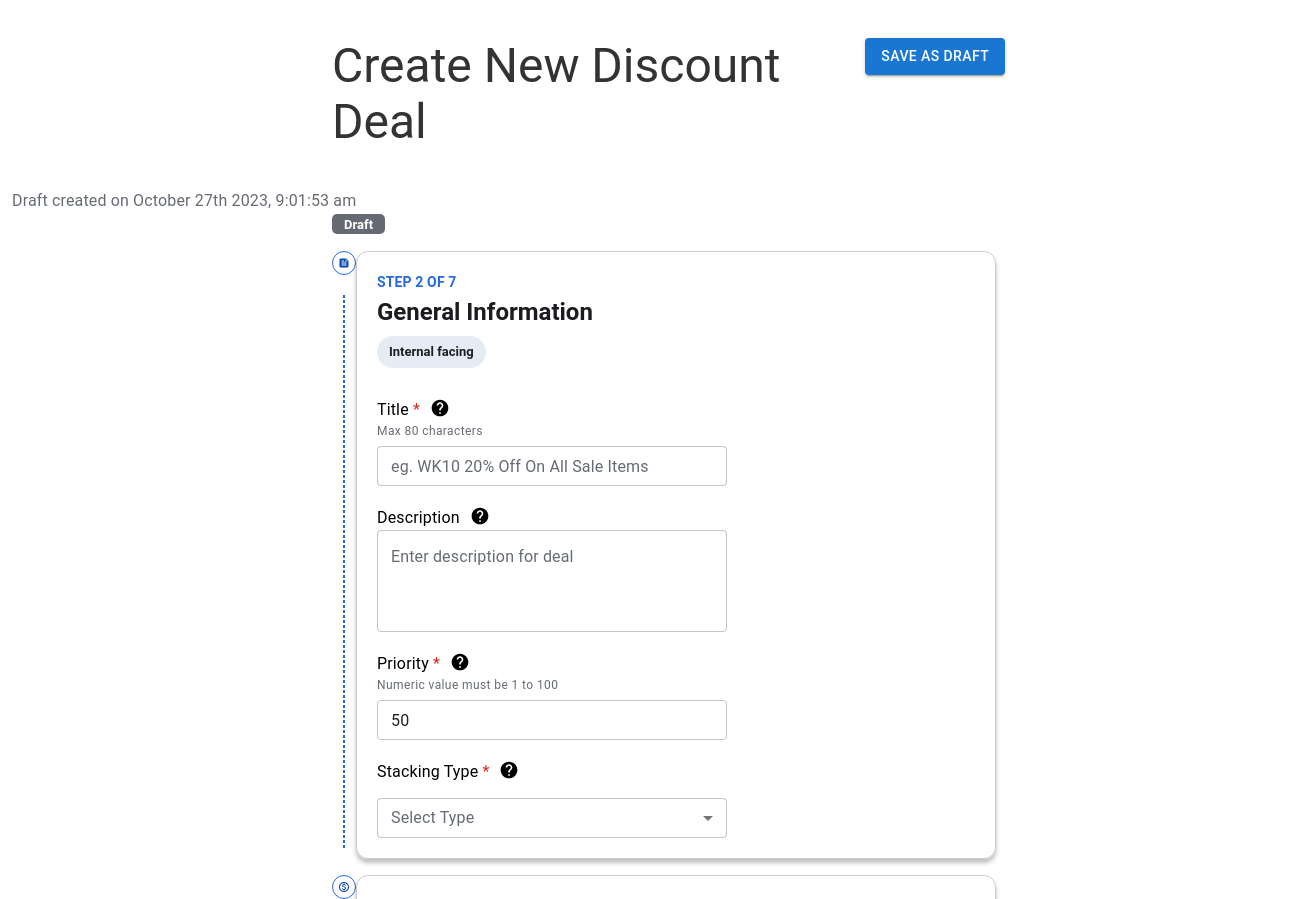
Scenario: Create deal form tests › Title field tests › Proper error messages are displayed for title field with more than 80 characters
This screenshot has width=1292, height=899.
Type "This is an example of a sample title name for more than 80 characters error unit test" into the field with test id "title".
click(541, 466); type("This is an example of a sample title name for more than 80 characters error unit test")  # box [377,438,705,494]
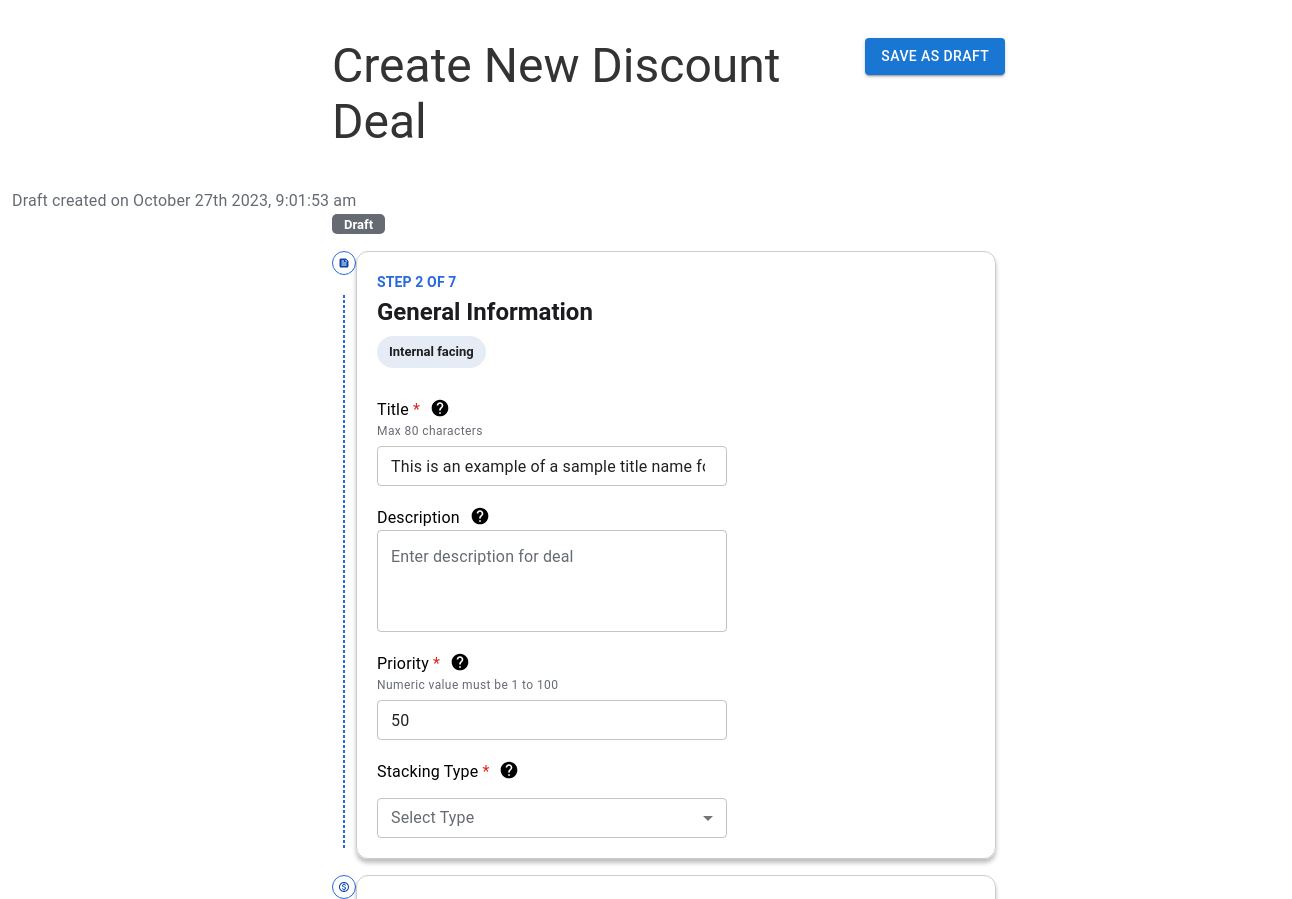
Leave the field with test id "title", box [377,438,705,494]
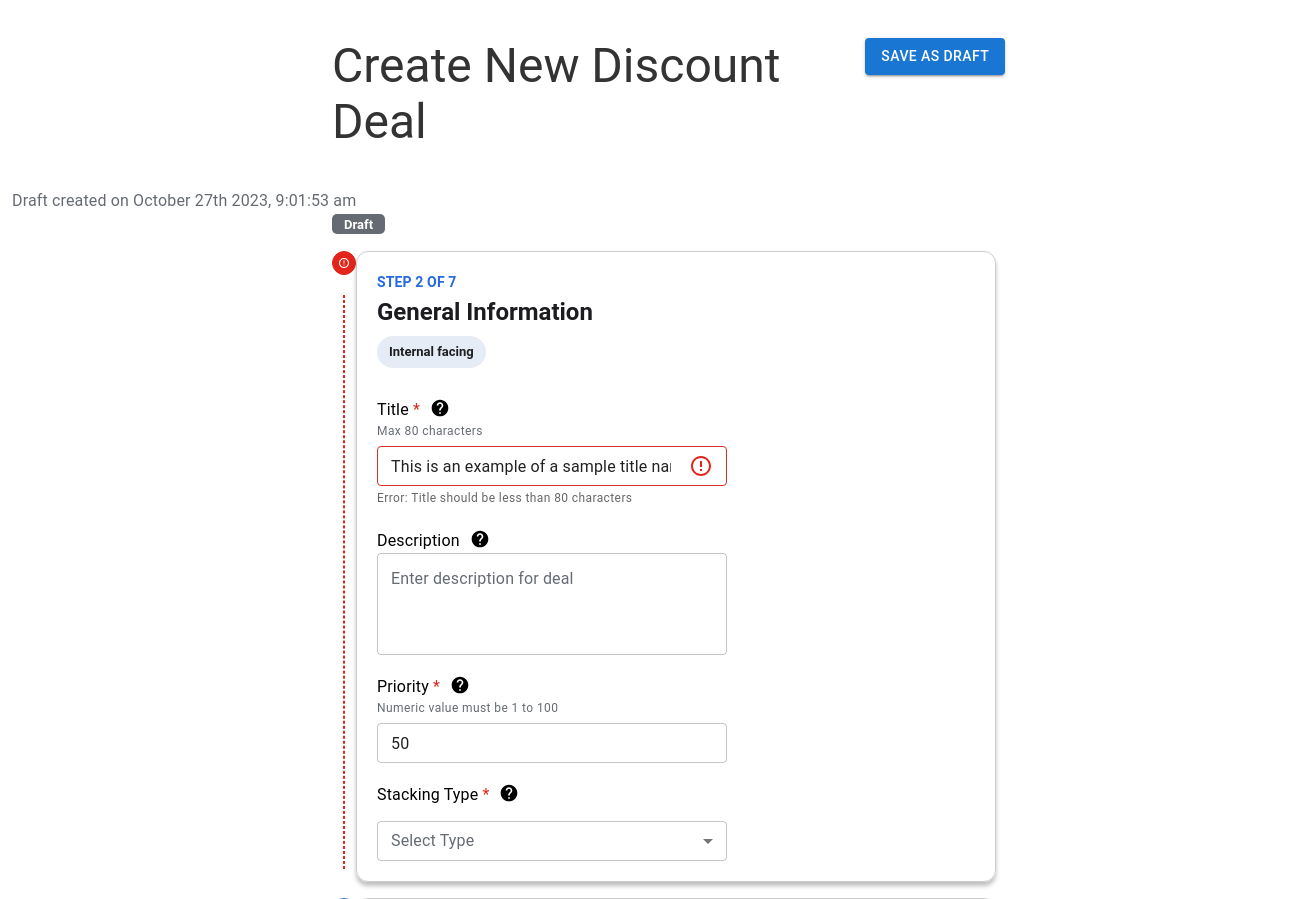
Expected: the text with test id "title-field-error" reads "Error: Title should be less than 80 characters", [377,491,632,505]
